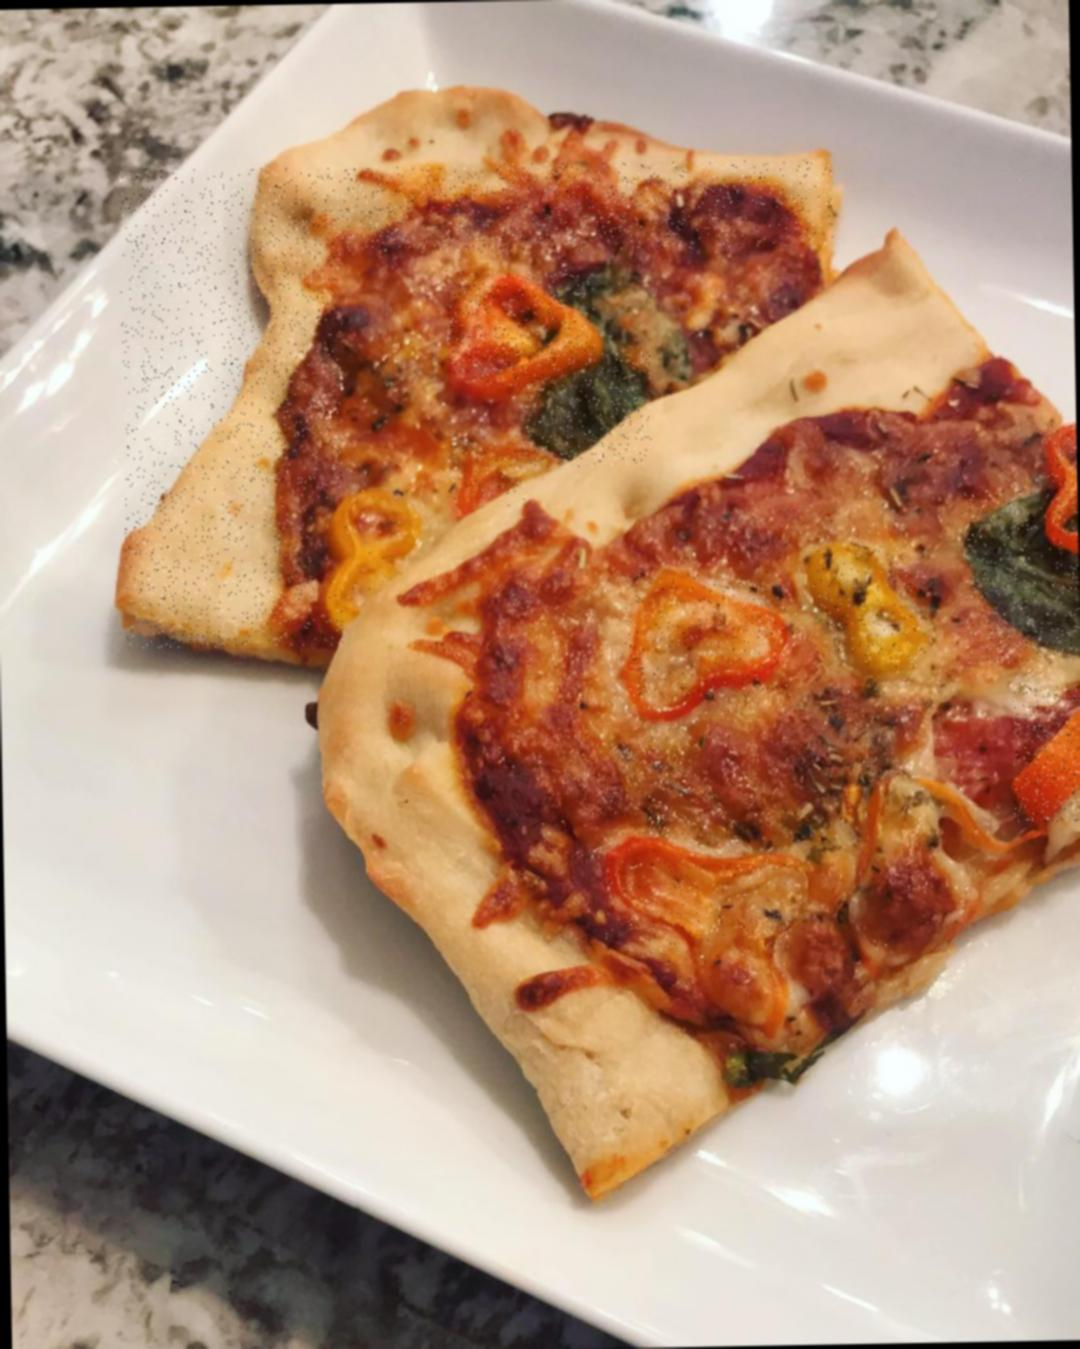Basil: (964, 486, 1080, 665), (523, 352, 651, 468)
Peppers: (604, 831, 791, 962), (624, 571, 787, 699), (446, 270, 596, 387), (813, 543, 926, 669), (315, 487, 401, 611), (1012, 686, 1080, 821), (450, 442, 534, 507), (1040, 423, 1078, 557)
Pizza: (338, 241, 1080, 1209), (119, 159, 840, 648)
